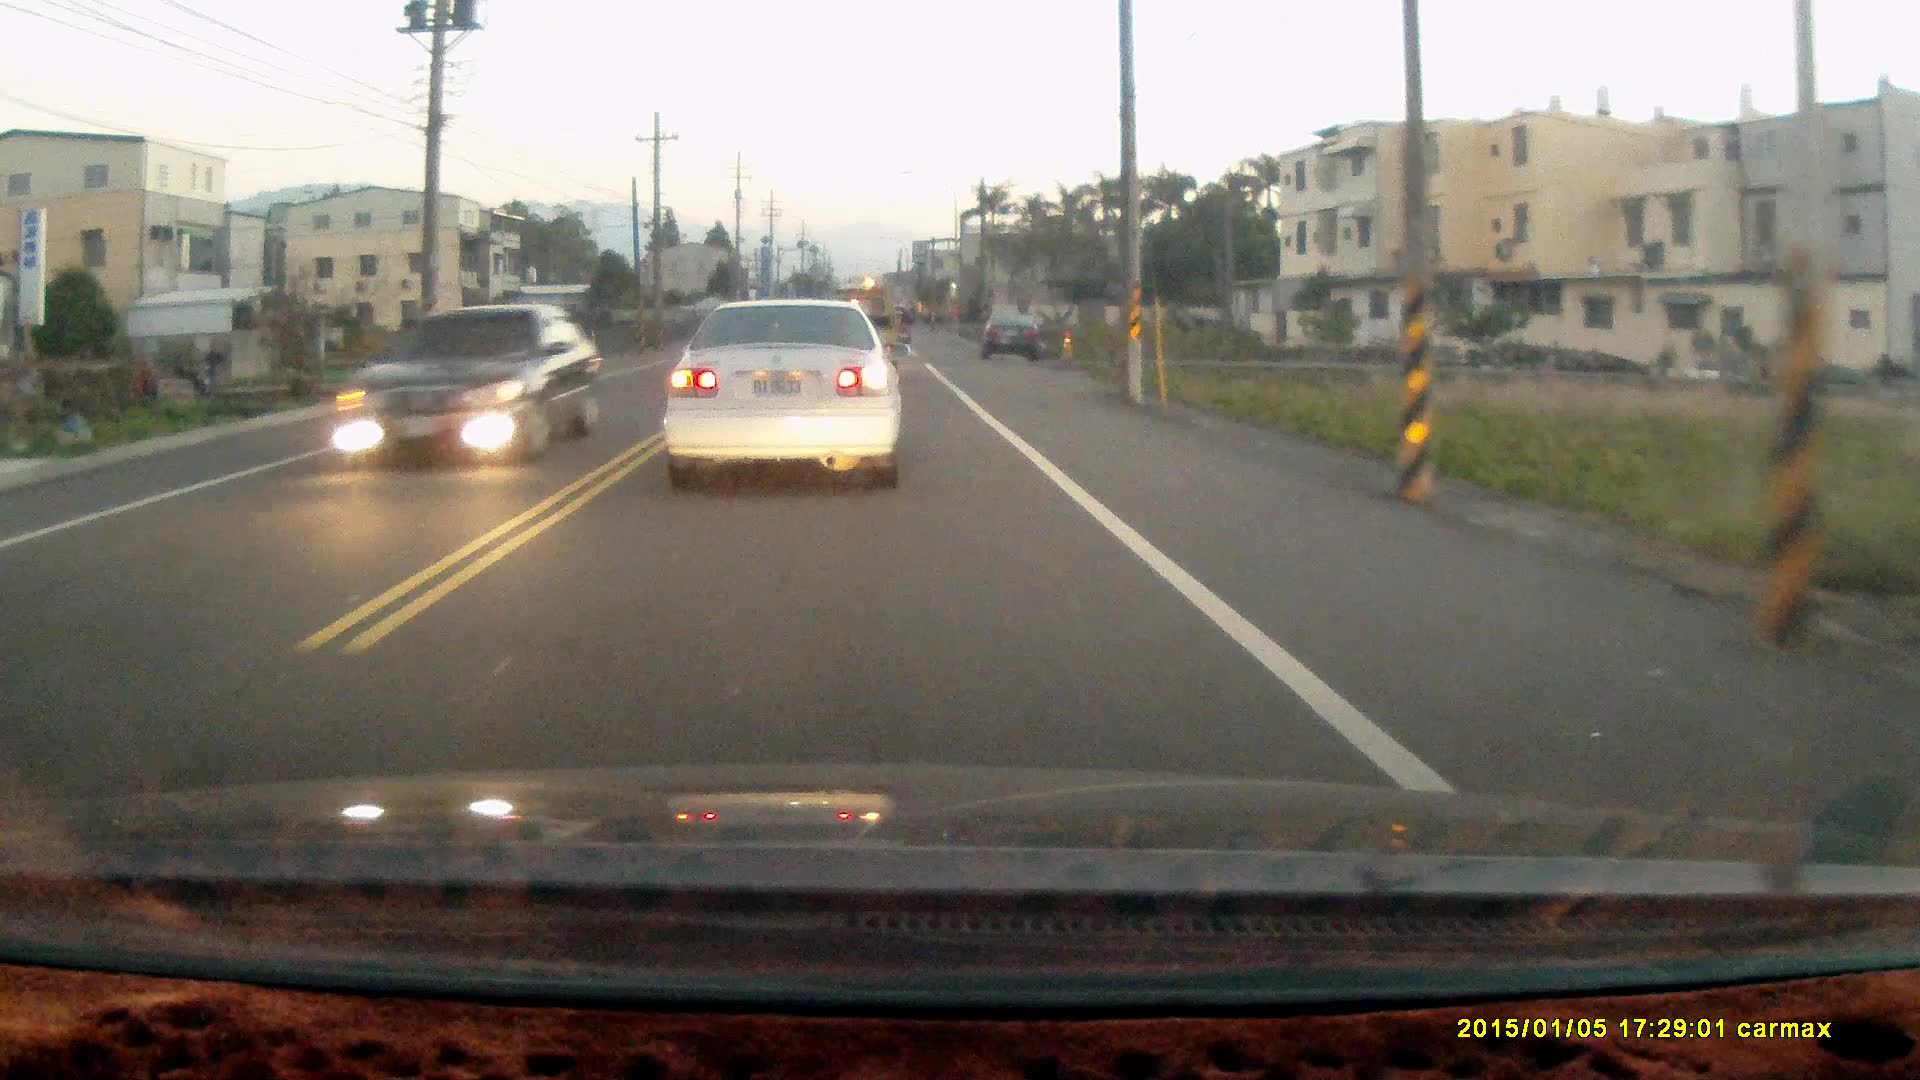pedestrian: (131, 359, 156, 407), (199, 340, 219, 389)
vehicle: (663, 291, 905, 488), (331, 301, 607, 465), (982, 305, 1046, 356)
